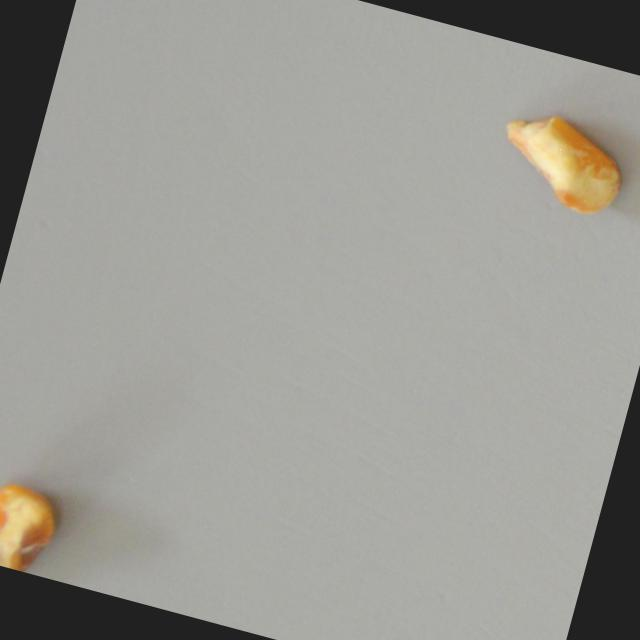dañado: (485, 99, 634, 224), (0, 477, 72, 579)
